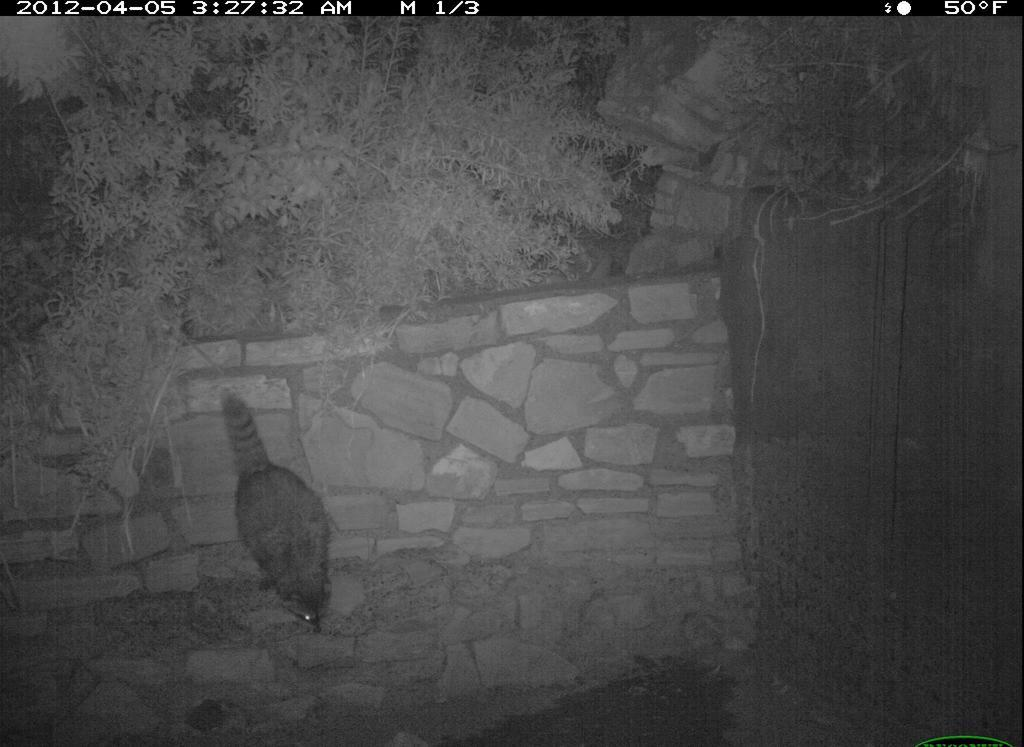raccoon: (221, 387, 339, 633)
